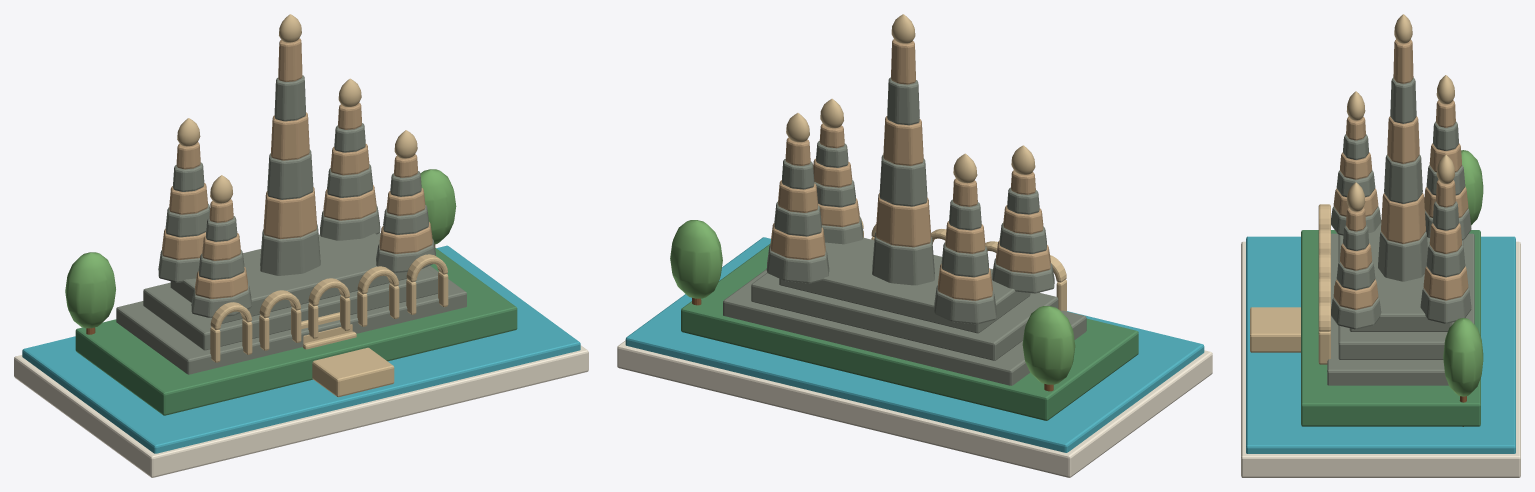
The model's file is angkor-wat.glb.
3 renders of one model, left to right at view 1: azimuth 30°, elevation 25°; view 2: azimuth 150°, elevation 25°; view 3: azimuth 270°, elevation 25°, orthographic. The views are drawn at different scales.
Visible parts, largest first — view 1: Angkor Wat; view 2: Angkor Wat; view 3: Angkor Wat.
Part boxes in pixels (x1,y1,x2,y2): Angkor Wat: (14, 14, 588, 477); Angkor Wat: (617, 14, 1212, 477); Angkor Wat: (1241, 14, 1520, 477).
Bounding box in the file's own units: 1.47 × 1.13 × 0.8064.
